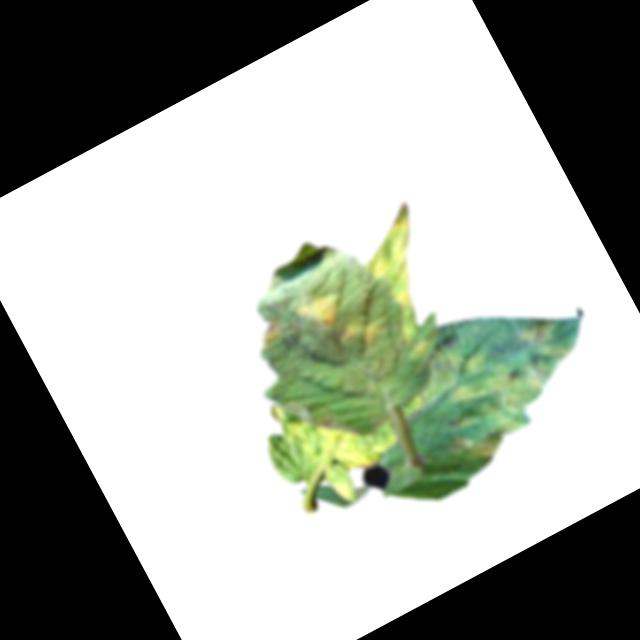Leaf_Mold: (392, 285, 619, 482), (267, 362, 406, 499), (345, 201, 465, 346), (288, 281, 350, 340), (331, 312, 384, 360), (253, 315, 290, 351)
